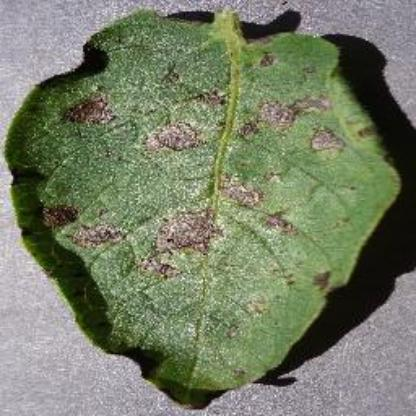Early-Blight: (4, 6, 408, 410)
